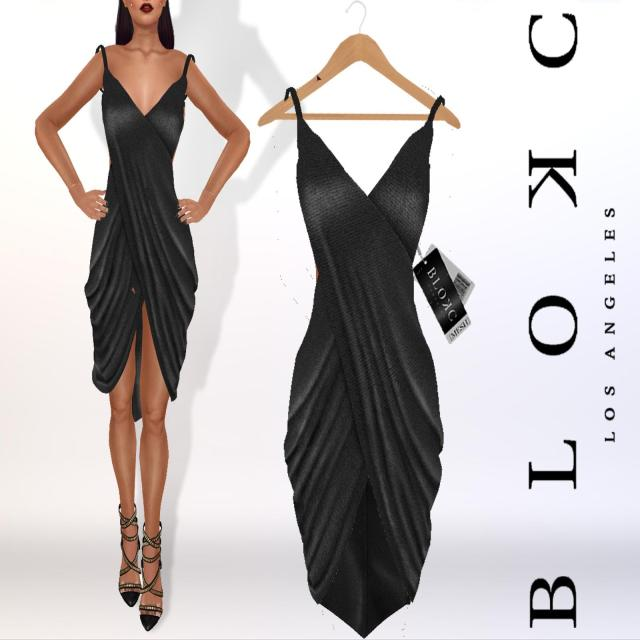Dress: (277, 83, 448, 633)
